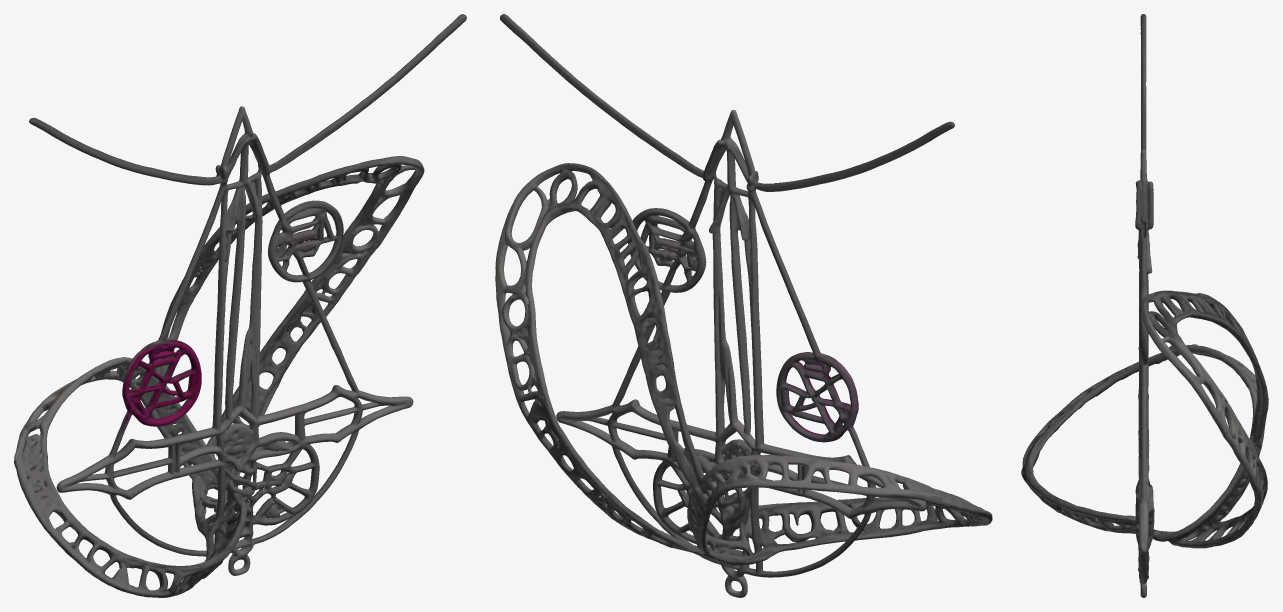
3 renders of one model, left to right at view 1: azimuth 30°, elevation 25°; view 2: azimuth 150°, elevation 25°; view 3: azimuth 270°, elevation 25°, orthographic. The views are drawn at different scales.
Visible parts, largest first — view 1: world; view 2: world; view 3: world.
Boxes of the visible parts, left/top/right/bottom form: world: left=14, top=14, right=466, bottom=597; world: left=495, top=14, right=992, bottom=597; world: left=1021, top=14, right=1268, bottom=597.
Size of the model in its own units: 0.2 by 0.2173 by 0.1004.
Materials: 1 (1 with a texture image).
